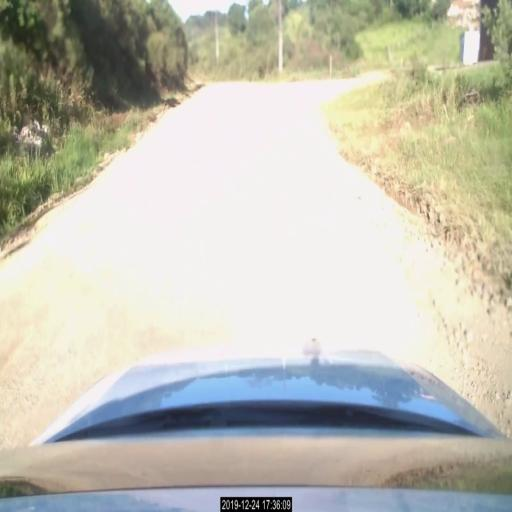Pothole: (440, 292, 478, 366)
